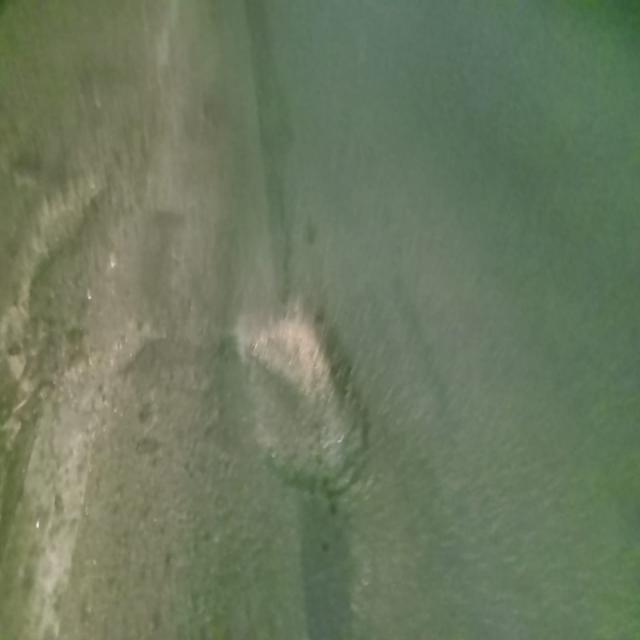Buraco: (231, 292, 375, 502)
